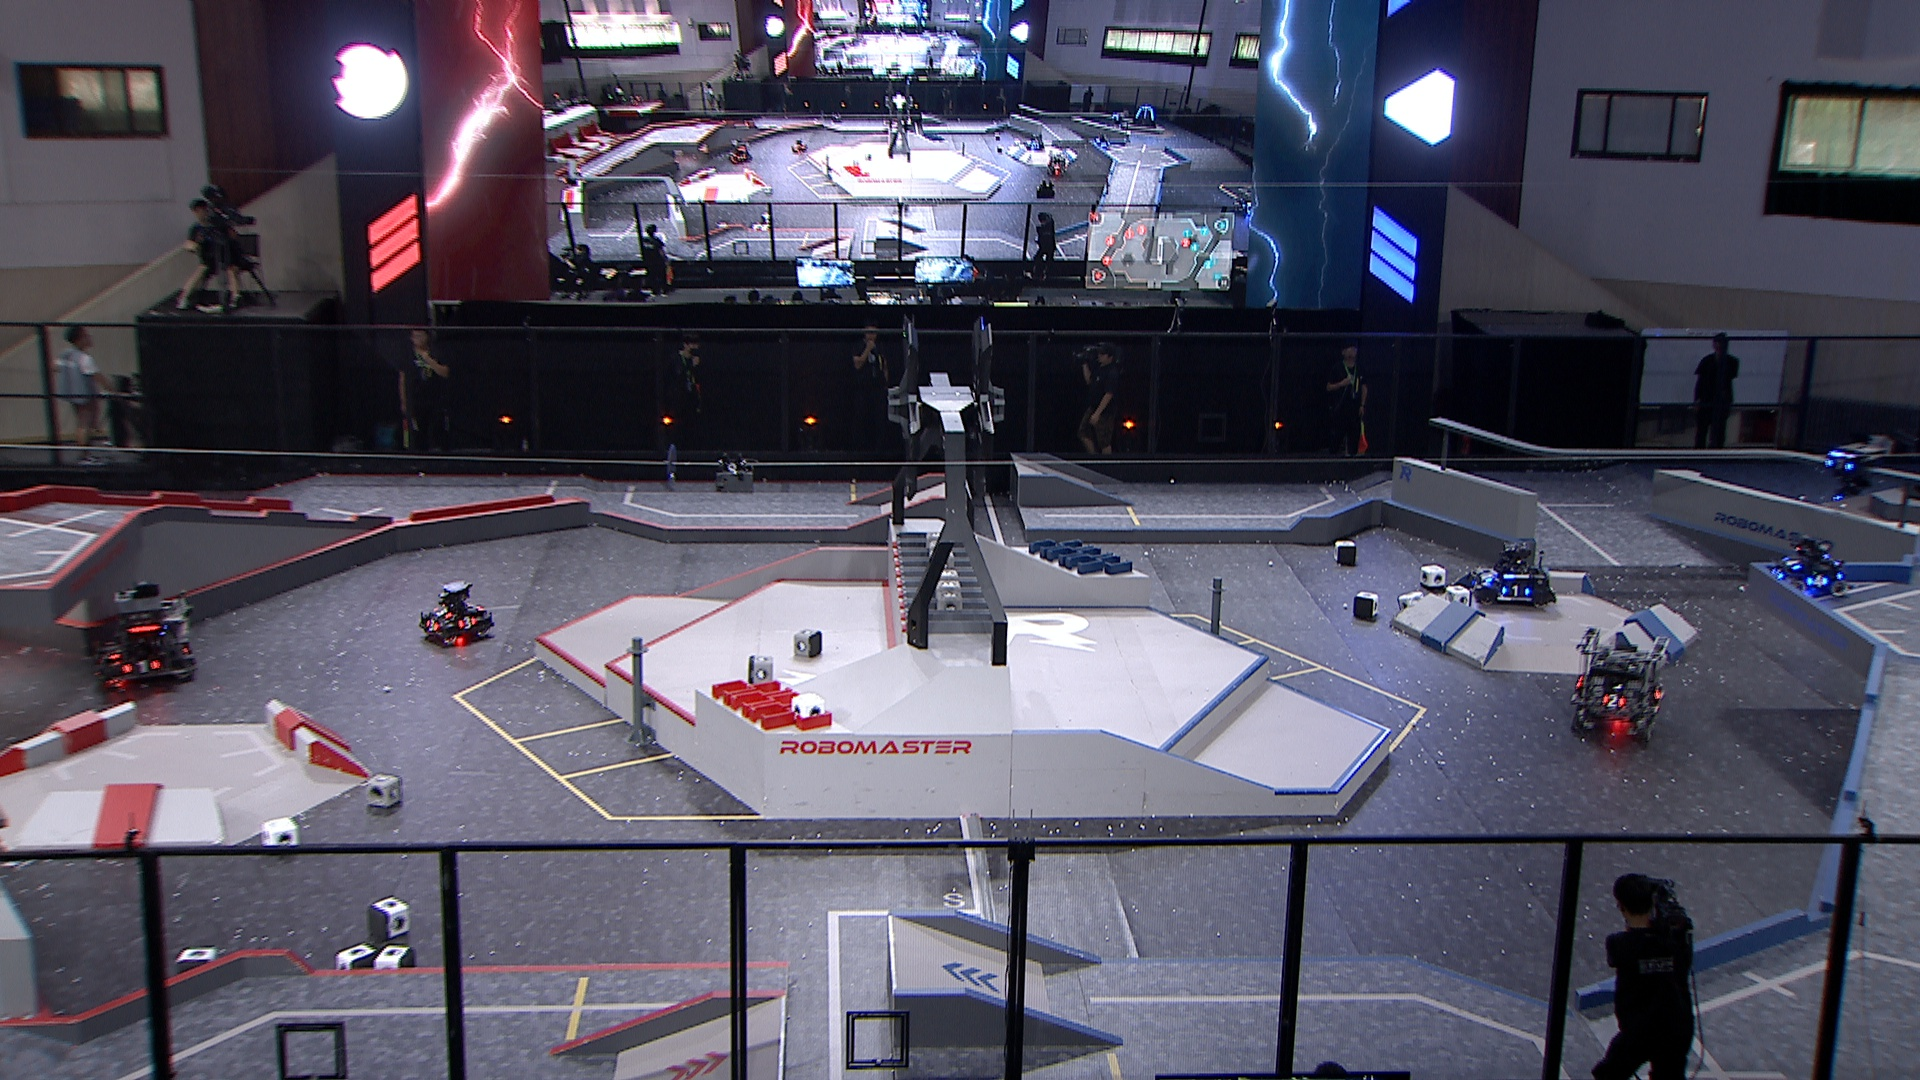armor: (121, 659, 162, 676), (1822, 456, 1854, 472), (1498, 584, 1532, 599), (1600, 694, 1627, 711), (1804, 574, 1830, 589), (1779, 555, 1801, 572), (456, 615, 477, 629), (105, 645, 123, 662), (1477, 571, 1495, 585), (436, 605, 452, 621), (423, 617, 439, 633), (1768, 566, 1785, 580)
car: (1565, 624, 1669, 745), (100, 589, 199, 690), (1472, 538, 1560, 609), (418, 580, 496, 647), (1766, 535, 1849, 597)
ignore: (724, 138, 752, 164), (1129, 105, 1159, 128), (1044, 153, 1069, 178), (1025, 131, 1044, 150), (1093, 133, 1112, 150), (789, 138, 808, 154)
watcher: (1821, 443, 1878, 498)
